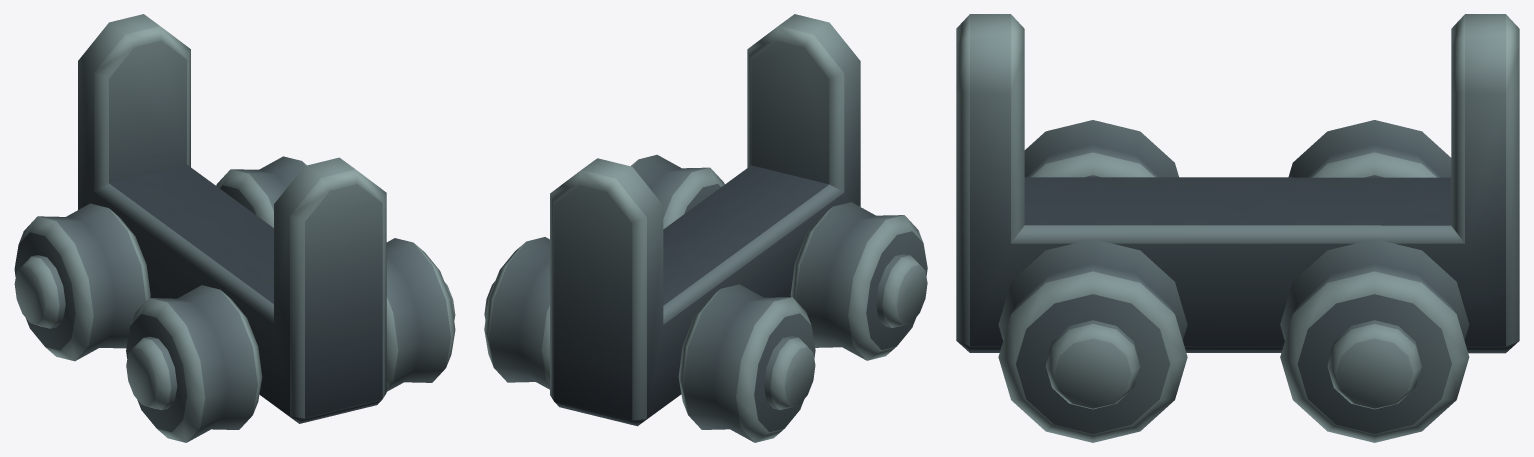
Rendered from mine_cart_in_out.fbx.
The picture shows the model from 3 angles, left to right: view 1: azimuth 30°, elevation 25°; view 2: azimuth 150°, elevation 25°; view 3: azimuth 270°, elevation 25°; orthographic projection. The views are drawn at different scales.
Visible parts, largest first — view 1: minecart_base_anim; view 2: minecart_base_anim; view 3: minecart_base_anim.
Part boxes in pixels (x1,y1,x2,y2): minecart_base_anim: (14, 14, 455, 442); minecart_base_anim: (484, 14, 927, 442); minecart_base_anim: (956, 14, 1519, 442).
Size of the model in its own units: 124 by 107 by 161.
